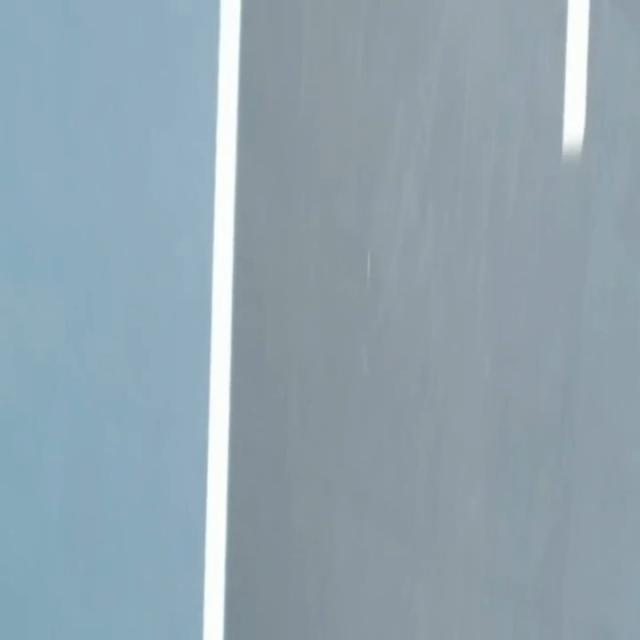center: (562, 0, 589, 161)
left: (203, 0, 240, 639)
